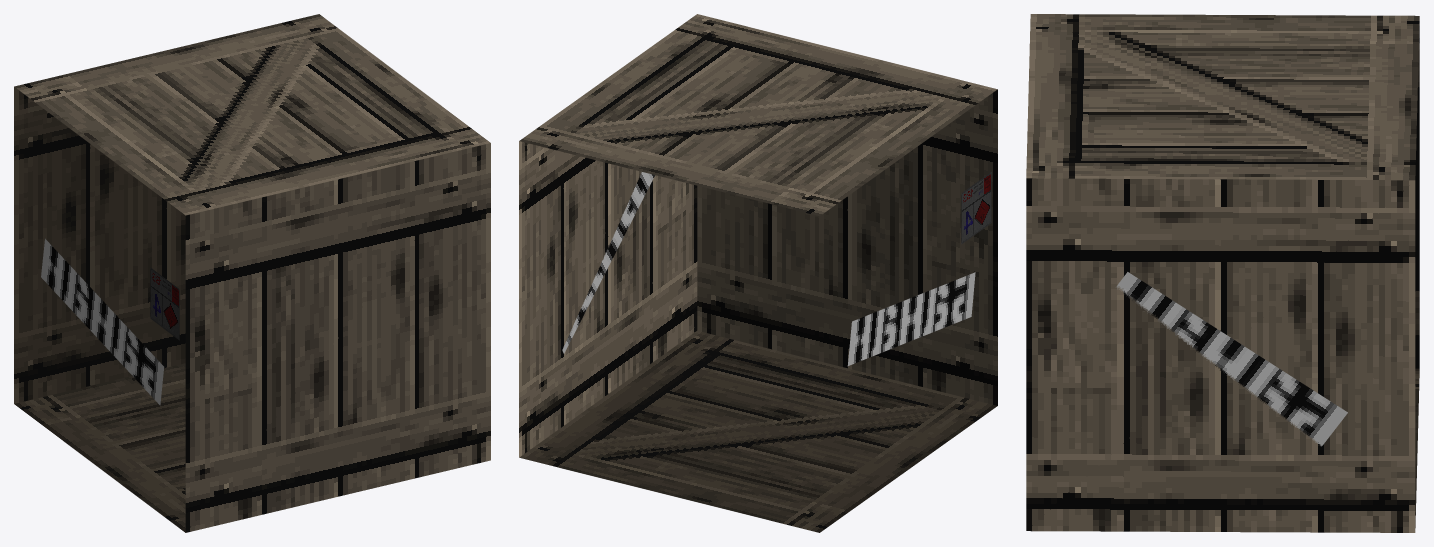
Rendered from primary_032.glb.
The picture shows the model from 3 angles, left to right: view 1: azimuth 30°, elevation 25°; view 2: azimuth 150°, elevation 25°; view 3: azimuth 270°, elevation 25°; orthographic projection. The views are drawn at different scales.
Visible parts, largest first — view 1: Object; view 2: Object; view 3: Object.
Boxes of the visible parts, x1=… form: Object: x1=14, y1=14, x2=490, y2=532; Object: x1=519, y1=14, x2=997, y2=532; Object: x1=1026, y1=14, x2=1419, y2=532.
Size of the model in its own units: 0.9608 by 0.9501 by 0.9608.
7 materials, 7 textured.
